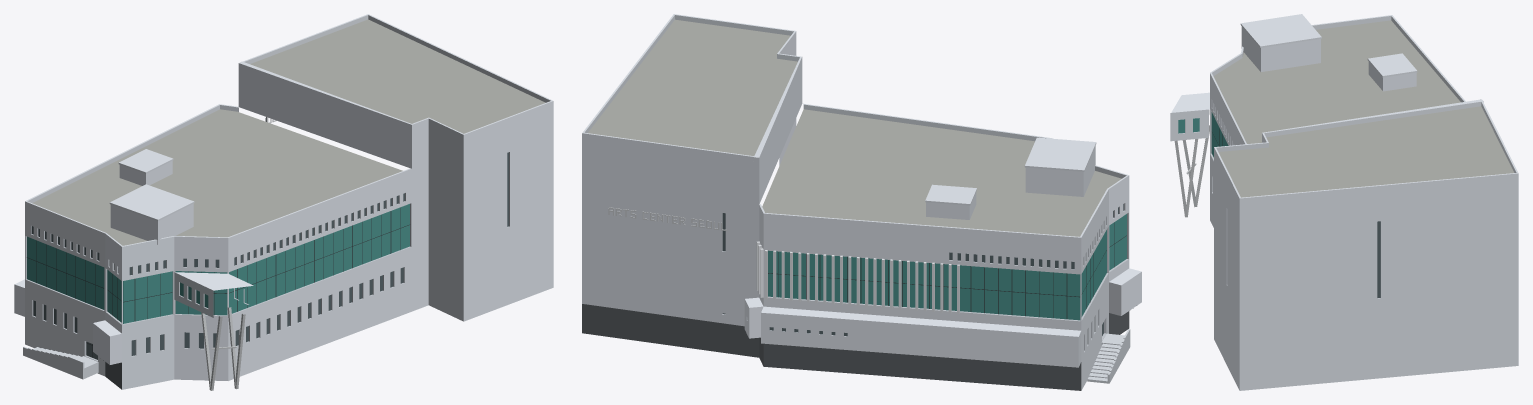
The picture shows the model from 3 angles, left to right: view 1: azimuth 30°, elevation 25°; view 2: azimuth 150°, elevation 25°; view 3: azimuth 270°, elevation 25°; orthographic projection. The views are drawn at different scales.
Visible parts, largest first — view 1: wing2__wall-plaster, wing2__roof, wing2__glass, wing2__parapet-concrete, wing2__slit-glass, wing2__reveal-concrete, wing2__frame, wing2__steel-column, wing2__step-stone; view 2: wing2__wall-plaster, wing2__roof, wing2__glass, wing2__base-stone, wing2__parapet-concrete, wing2__trim-concrete, wing2__frame, wing2__reveal-concrete, wing2__step-stone, wing2__slit-glass, wing2__sign-letters; view 3: wing2__wall-plaster, wing2__roof, wing2__parapet-concrete, wing2__steel-column, wing2__glass, wing2__reveal-concrete, wing2__slit-glass.
Part boxes in pixels (<box>): wing2__wall-plaster: <box>14,63,553,389</box>; wing2__roof: <box>32,19,545,245</box>; wing2__glass: <box>27,204,409,323</box>; wing2__parapet-concrete: <box>25,14,552,246</box>; wing2__slit-glass: <box>31,152,508,355</box>; wing2__reveal-concrete: <box>25,117,509,361</box>; wing2__frame: <box>27,207,410,357</box>; wing2__steel-column: <box>201,307,245,390</box>; wing2__step-stone: <box>23,346,98,379</box>; wing2__wall-plaster: <box>582,31,1141,390</box>; wing2__roof: <box>588,19,1121,236</box>; wing2__glass: <box>768,214,1126,320</box>; wing2__base-stone: <box>582,304,1129,390</box>; wing2__parapet-concrete: <box>582,14,1128,237</box>; wing2__trim-concrete: <box>756,241,959,313</box>; wing2__frame: <box>768,222,1126,318</box>; wing2__reveal-concrete: <box>722,203,1128,352</box>; wing2__step-stone: <box>1087,329,1130,383</box>; wing2__slit-glass: <box>722,204,1123,336</box>; wing2__sign-letters: <box>608,207,726,231</box>; wing2__wall-plaster: <box>1170,26,1518,390</box>; wing2__roof: <box>1213,20,1514,197</box>; wing2__parapet-concrete: <box>1210,14,1518,198</box>; wing2__steel-column: <box>1174,125,1209,217</box>; wing2__glass: <box>1178,112,1228,157</box>; wing2__reveal-concrete: <box>1178,99,1380,298</box>; wing2__slit-glass: <box>1377,221,1380,297</box>.
Size of the model in its own units: 78.52 by 29.9 by 49.05.
